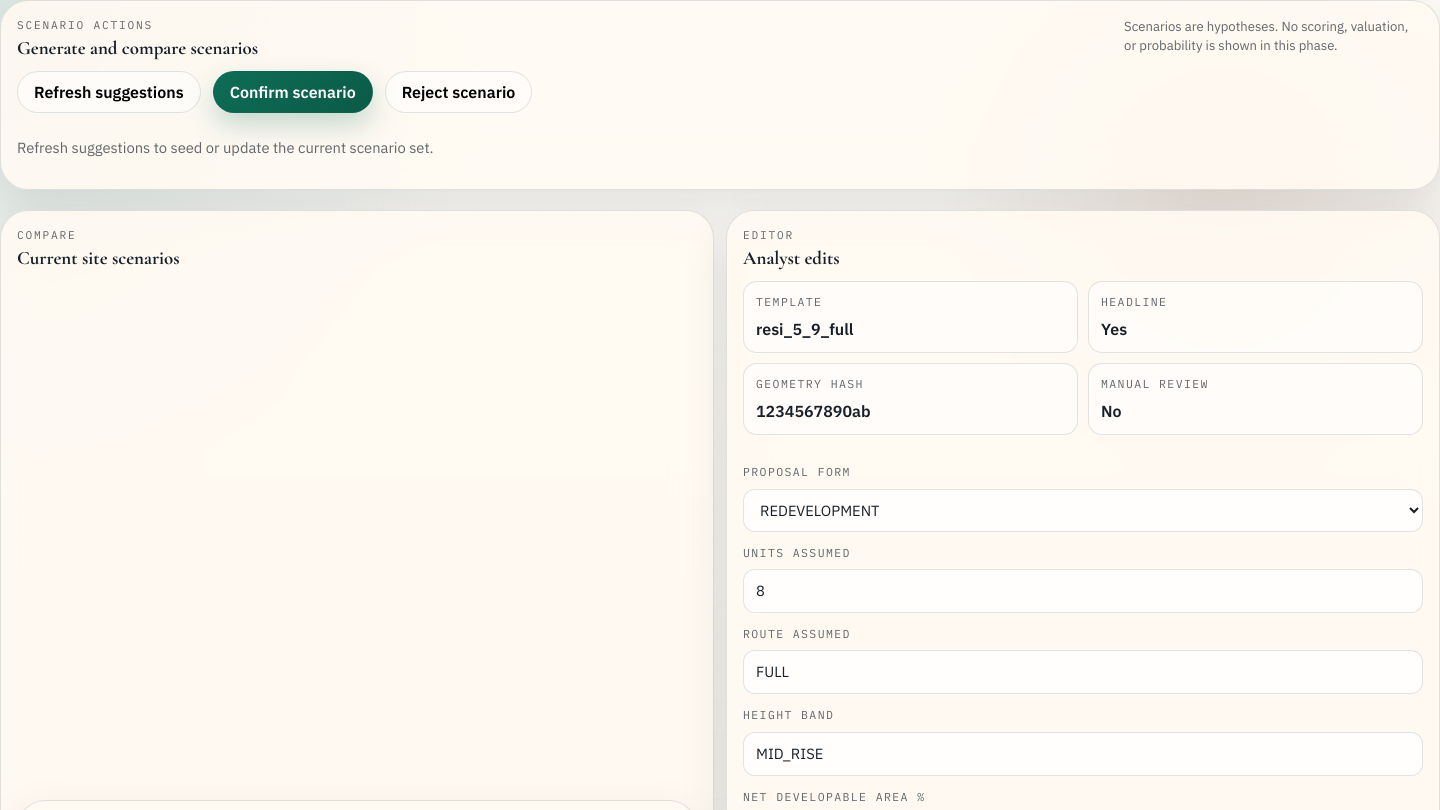
Test case: SiteScenarioEditor › reports a failed suggestion request when the API does not return a payload
Click the button "Refresh suggestions": click(109, 92) [17,71,201,113]
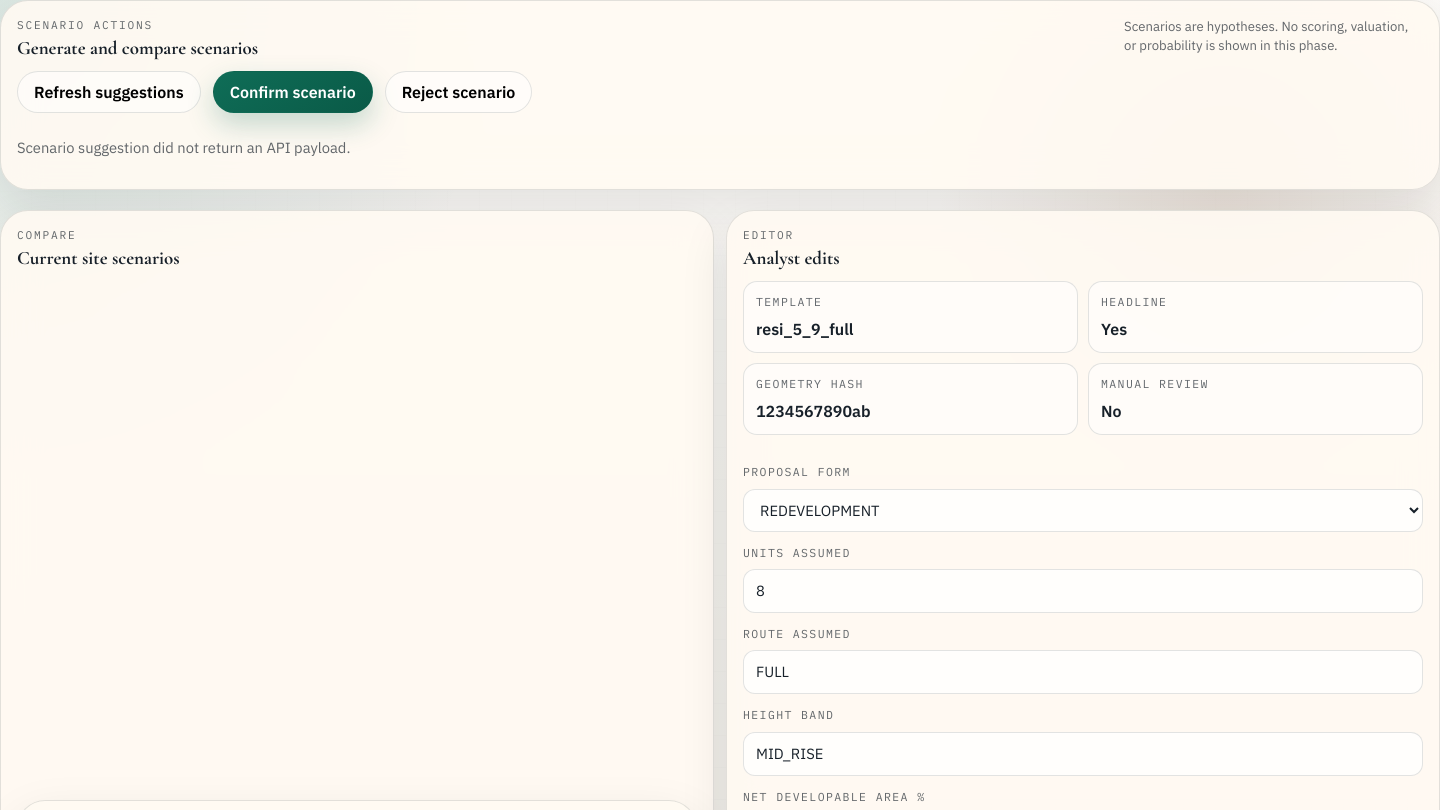
Check: the text "Scenario suggestion did not return an API payload." is shown, box [17,138,350,157]
